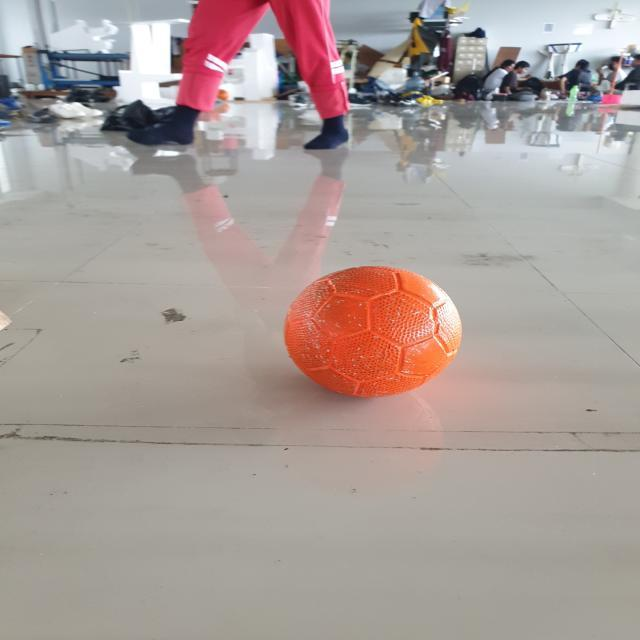bola: (276, 260, 475, 406)
